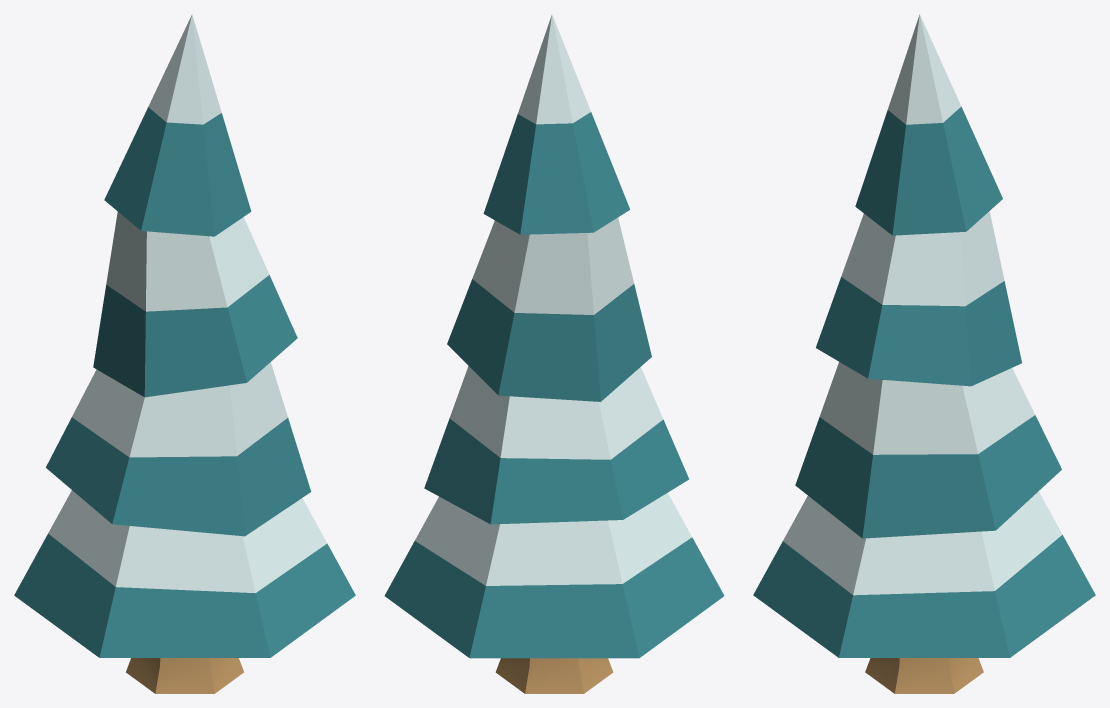
Rendered from treePineSnow.fbx.
The picture shows the model from 3 angles, left to right: view 1: azimuth 30°, elevation 25°; view 2: azimuth 150°, elevation 25°; view 3: azimuth 270°, elevation 25°; orthographic projection.
Visible parts, largest first — view 1: treePineSnow; view 2: treePineSnow; view 3: treePineSnow.
Part boxes in pixels (left/top/right/bottom): treePineSnow: left=14, top=14, right=355, bottom=693; treePineSnow: left=384, top=14, right=724, bottom=693; treePineSnow: left=753, top=14, right=1095, bottom=693.
Bounding box in the file's own units: 6.51 × 15.98 × 7.52.
